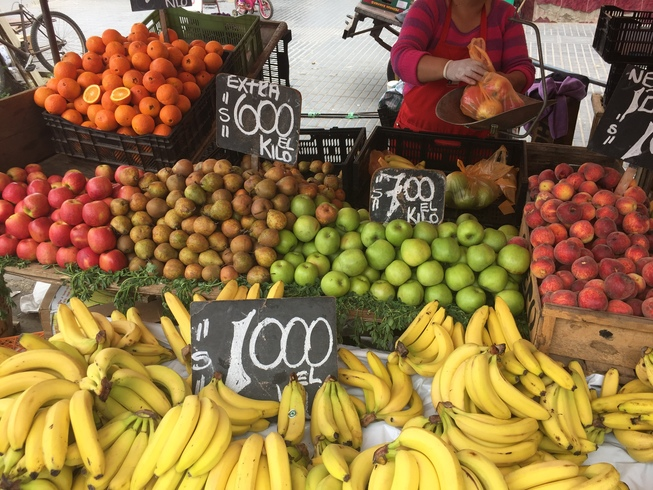precio: (189, 289, 344, 428), (209, 69, 311, 180), (592, 52, 653, 174), (369, 160, 454, 237)
